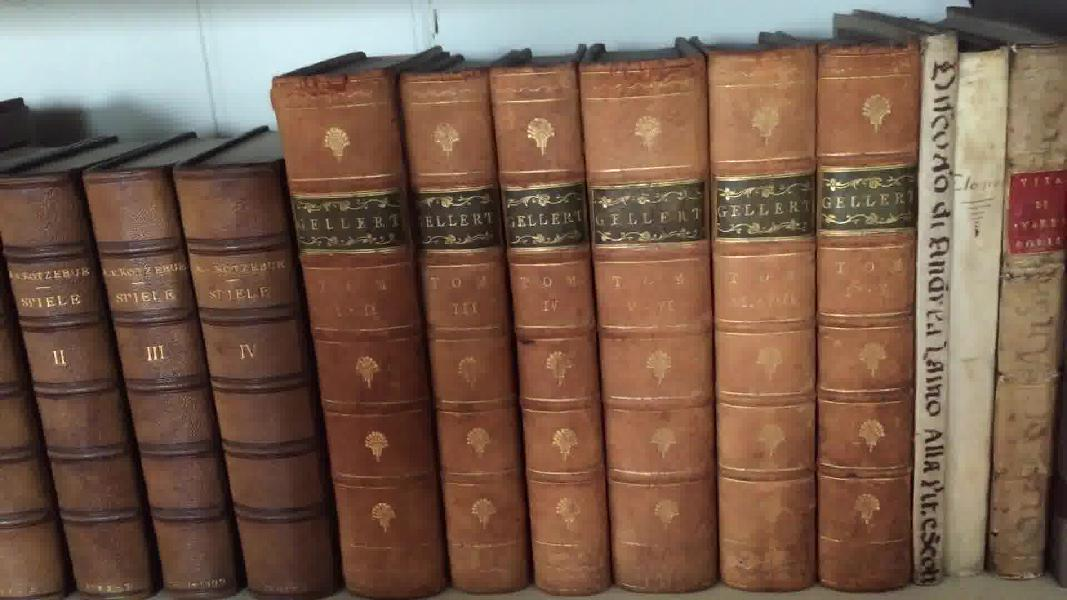Aa6-18_23: (255, 31, 921, 592)
Aa6-24: (908, 19, 956, 588)
Aa6-25: (948, 31, 1006, 577)
Aa6-26: (982, 24, 1065, 593)
